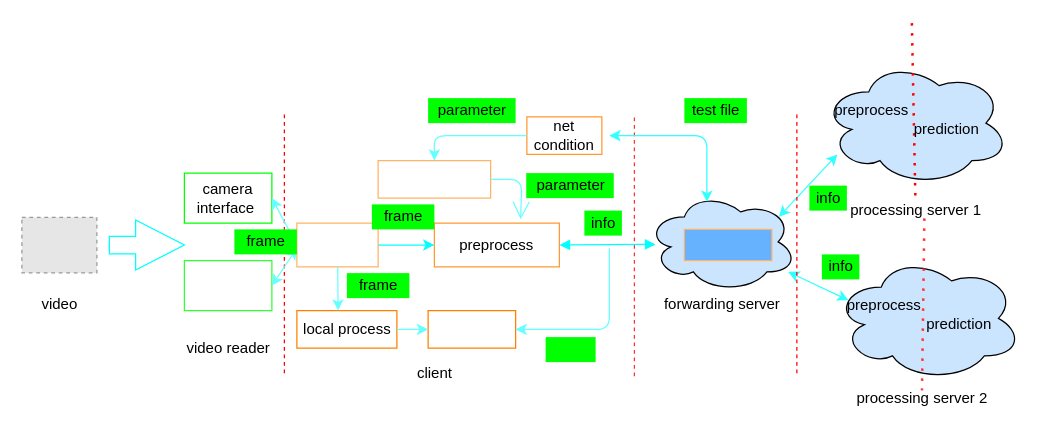
Some shapes in this 1044 by 431 pixel diagram are drawn without their labels. Grey dashed boxes stand in for pictures. Each missing label, with the centre of its shape:
"decision engine" belongs at (434,178).
"interface" belongs at (337,244).
"local store" belongs at (471,328).
"policy decision" belongs at (727,244).
"result" belongs at (570,349).
"video file interfacce" belongs at (227,285).
